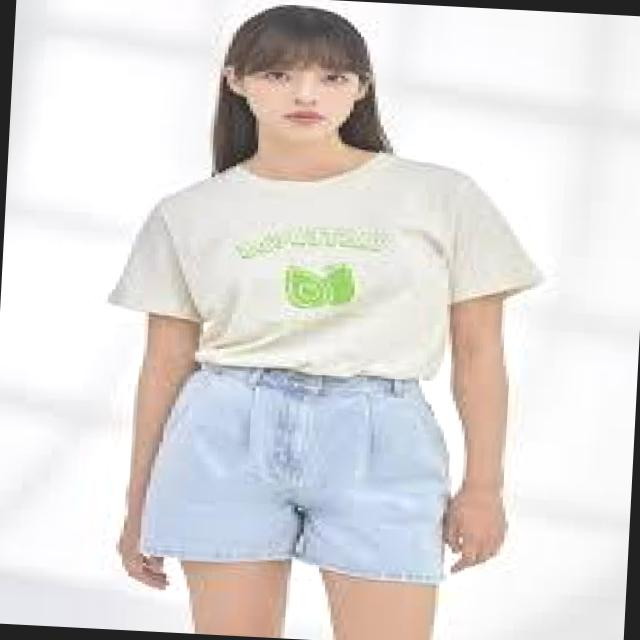Tshirt: (102, 136, 554, 390)
short: (129, 360, 464, 583)
